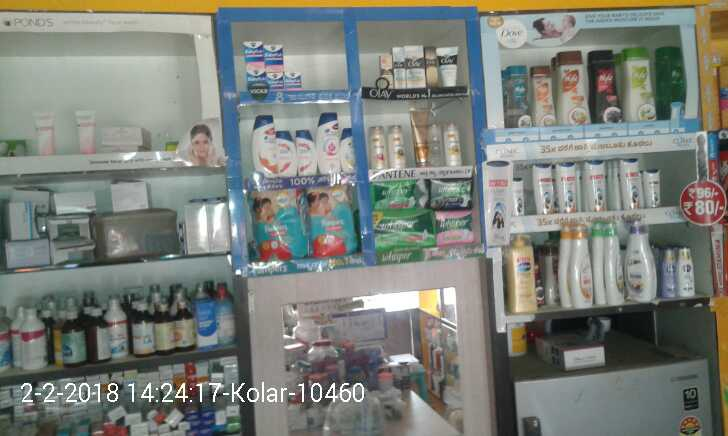beauty: (249, 114, 274, 181), (316, 109, 340, 175), (272, 131, 294, 179), (294, 130, 316, 176), (404, 45, 426, 88), (438, 46, 461, 85), (412, 108, 427, 165), (368, 125, 386, 170), (340, 127, 356, 172), (444, 126, 461, 166), (390, 125, 405, 169), (426, 123, 441, 166), (423, 46, 438, 87), (390, 46, 404, 88)
pharmacy: (250, 191, 309, 257), (309, 184, 356, 257), (370, 210, 435, 248), (371, 178, 424, 207), (429, 178, 474, 212), (433, 212, 471, 247), (263, 44, 285, 70), (242, 39, 260, 65), (248, 68, 266, 94), (264, 70, 283, 94), (287, 72, 302, 90)
